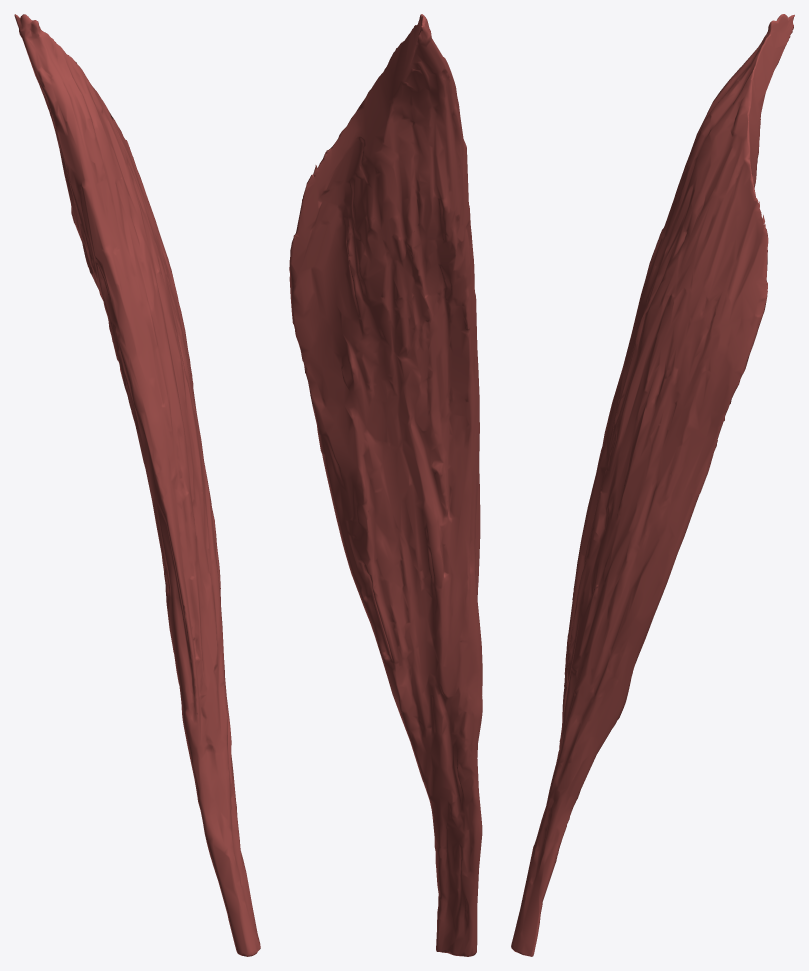
Rendered from FMA38641.glb.
3 renders of one model, left to right at view 1: azimuth 30°, elevation 25°; view 2: azimuth 150°, elevation 25°; view 3: azimuth 270°, elevation 25°, orthographic. The views are drawn at different scales.
Parts seen in each view (by area): view 1: FMA38641; view 2: FMA38641; view 3: FMA38641.
Boxes of the visible parts, <box> form: FMA38641: <box>14,14,260,956</box>; FMA38641: <box>289,14,482,956</box>; FMA38641: <box>511,14,794,956</box>.
Size of the model in its own units: 0.0282 by 0.1791 by 0.0519.
